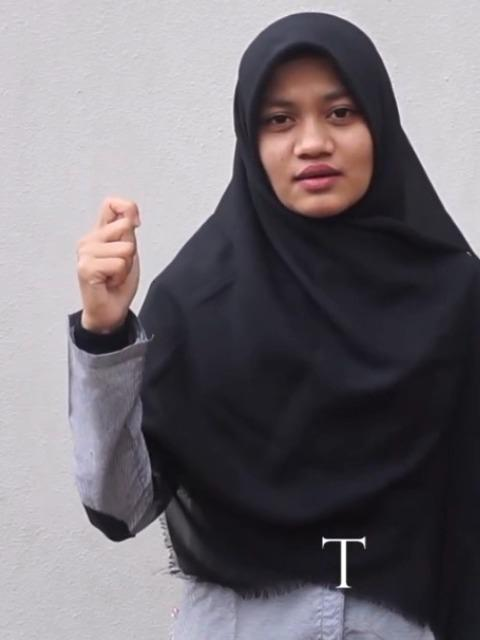T: (74, 198, 142, 318)
